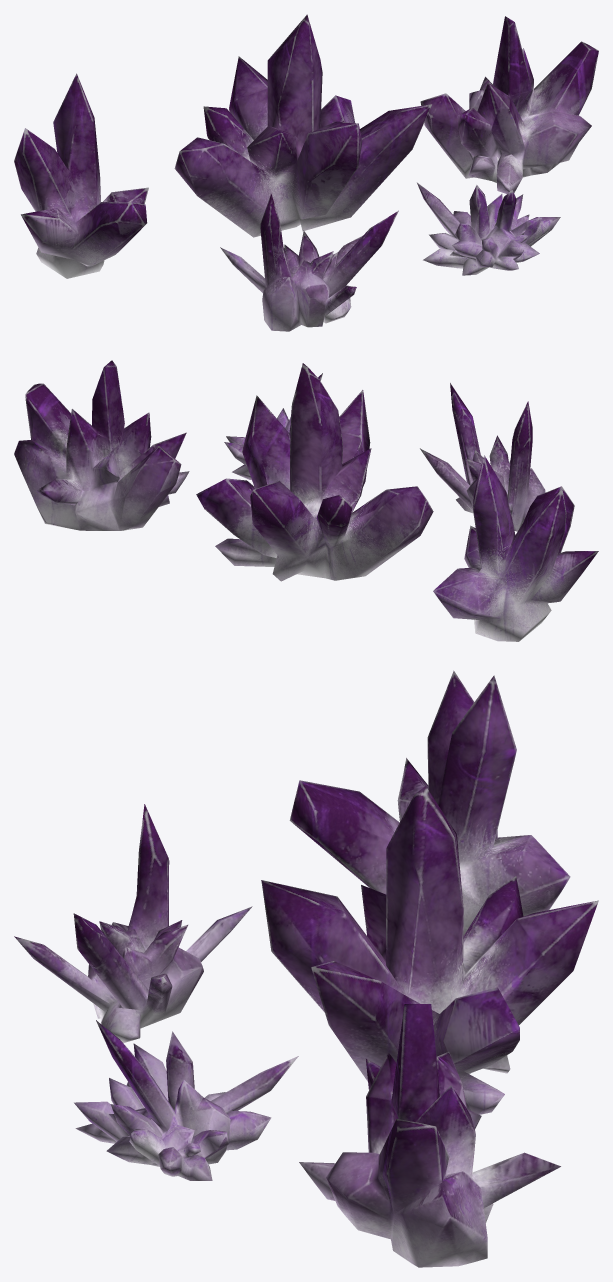
File: crystal.glb
The picture shows the model from 3 angles, top to bottom: view 1: azimuth 30°, elevation 25°; view 2: azimuth 150°, elevation 25°; view 3: azimuth 270°, elevation 25°; orthographic projection. The views are drawn at different scales.
Parts seen in each view (by area): view 1: Cluster2.Shape, Cluster3.Shape, Cluster1.Shape, Cluster4.Shape, Cluster5.Shape; view 2: Cluster2.Shape, Cluster3.Shape, Cluster1.Shape, Cluster4.Shape, Cluster5.Shape; view 3: Cluster2.Shape, Cluster3.Shape, Cluster1.Shape, Cluster4.Shape, Cluster5.Shape.
Part boxes in pixels (x1,y1,x2,y2): Cluster2.Shape: (174, 14, 431, 237); Cluster3.Shape: (420, 16, 598, 193); Cluster1.Shape: (14, 73, 148, 278); Cluster4.Shape: (220, 194, 398, 331); Cluster5.Shape: (417, 182, 560, 275); Cluster2.Shape: (196, 363, 433, 581); Cluster3.Shape: (14, 360, 189, 530); Cluster1.Shape: (433, 455, 598, 641); Cluster4.Shape: (420, 383, 545, 531); Cluster5.Shape: (224, 373, 322, 479); Cluster2.Shape: (261, 786, 598, 1114); Cluster3.Shape: (299, 1004, 560, 1267); Cluster1.Shape: (289, 670, 570, 935); Cluster4.Shape: (14, 804, 252, 1042); Cluster5.Shape: (74, 1020, 298, 1180).
Bounding box in the file's own units: 0.4821 × 0.1649 × 0.2893.
Materials: 5 (5 with a texture image).
